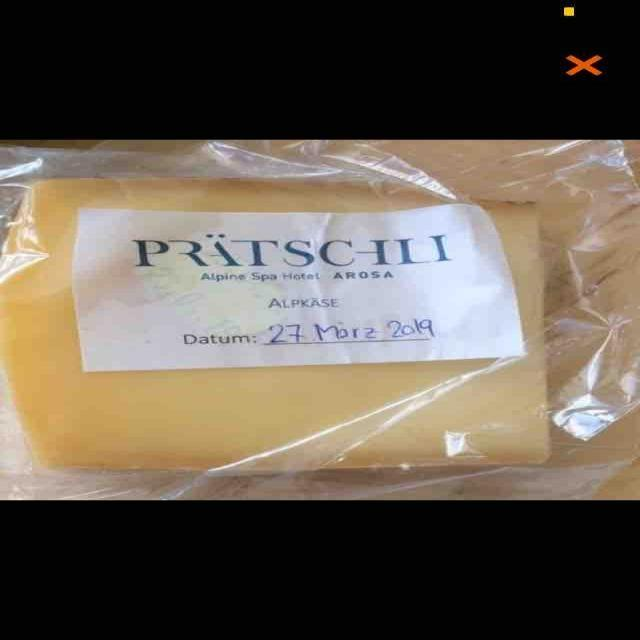cheese: (15, 182, 557, 474)
